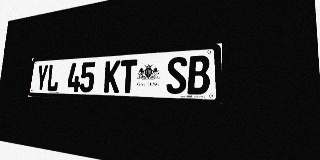4: (67, 62, 82, 92)
5: (80, 62, 95, 92)
B: (187, 55, 210, 95)
K: (103, 60, 121, 93)
L: (46, 64, 60, 92)
S: (166, 56, 187, 94)
T: (119, 59, 137, 93)
Y: (35, 64, 49, 91)
